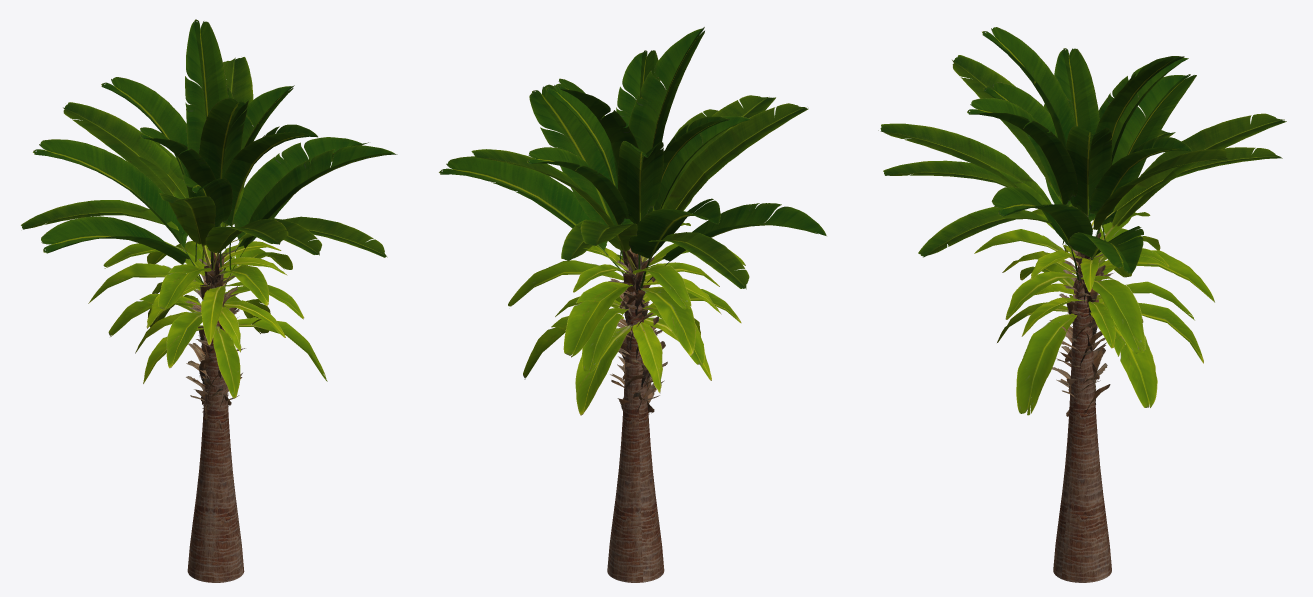
Rendered from banana.glb.
3 views of the same model, side by side, from view 1: azimuth 30°, elevation 25°; view 2: azimuth 150°, elevation 25°; view 3: azimuth 270°, elevation 25° (orthographic). The views are drawn at different scales.
Visible parts, largest first — view 1: Cylinder; view 2: Cylinder; view 3: Cylinder.
Boxes of the visible parts, box(x1,y1,x2,y2) form: Cylinder: box(21, 19, 397, 582); Cylinder: box(439, 27, 826, 582); Cylinder: box(878, 27, 1286, 582).
Bounding box in the file's own units: 3.01 × 4.14 × 2.99.
Materials: 5 (5 with a texture image).
